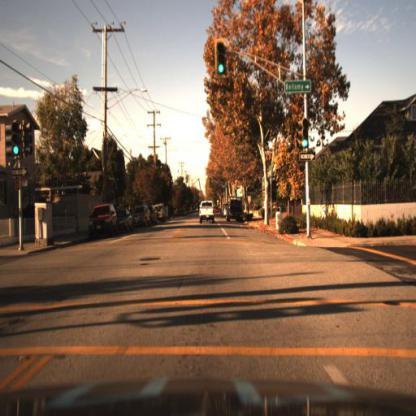car: (86, 201, 121, 245), (227, 195, 247, 230), (114, 207, 136, 236), (117, 203, 135, 238), (198, 194, 216, 227), (132, 202, 151, 233), (133, 202, 154, 228), (222, 199, 231, 224), (157, 203, 166, 224), (150, 205, 158, 226)
trafficLight-Green: (215, 50, 229, 81), (301, 116, 312, 152), (299, 128, 311, 154)
